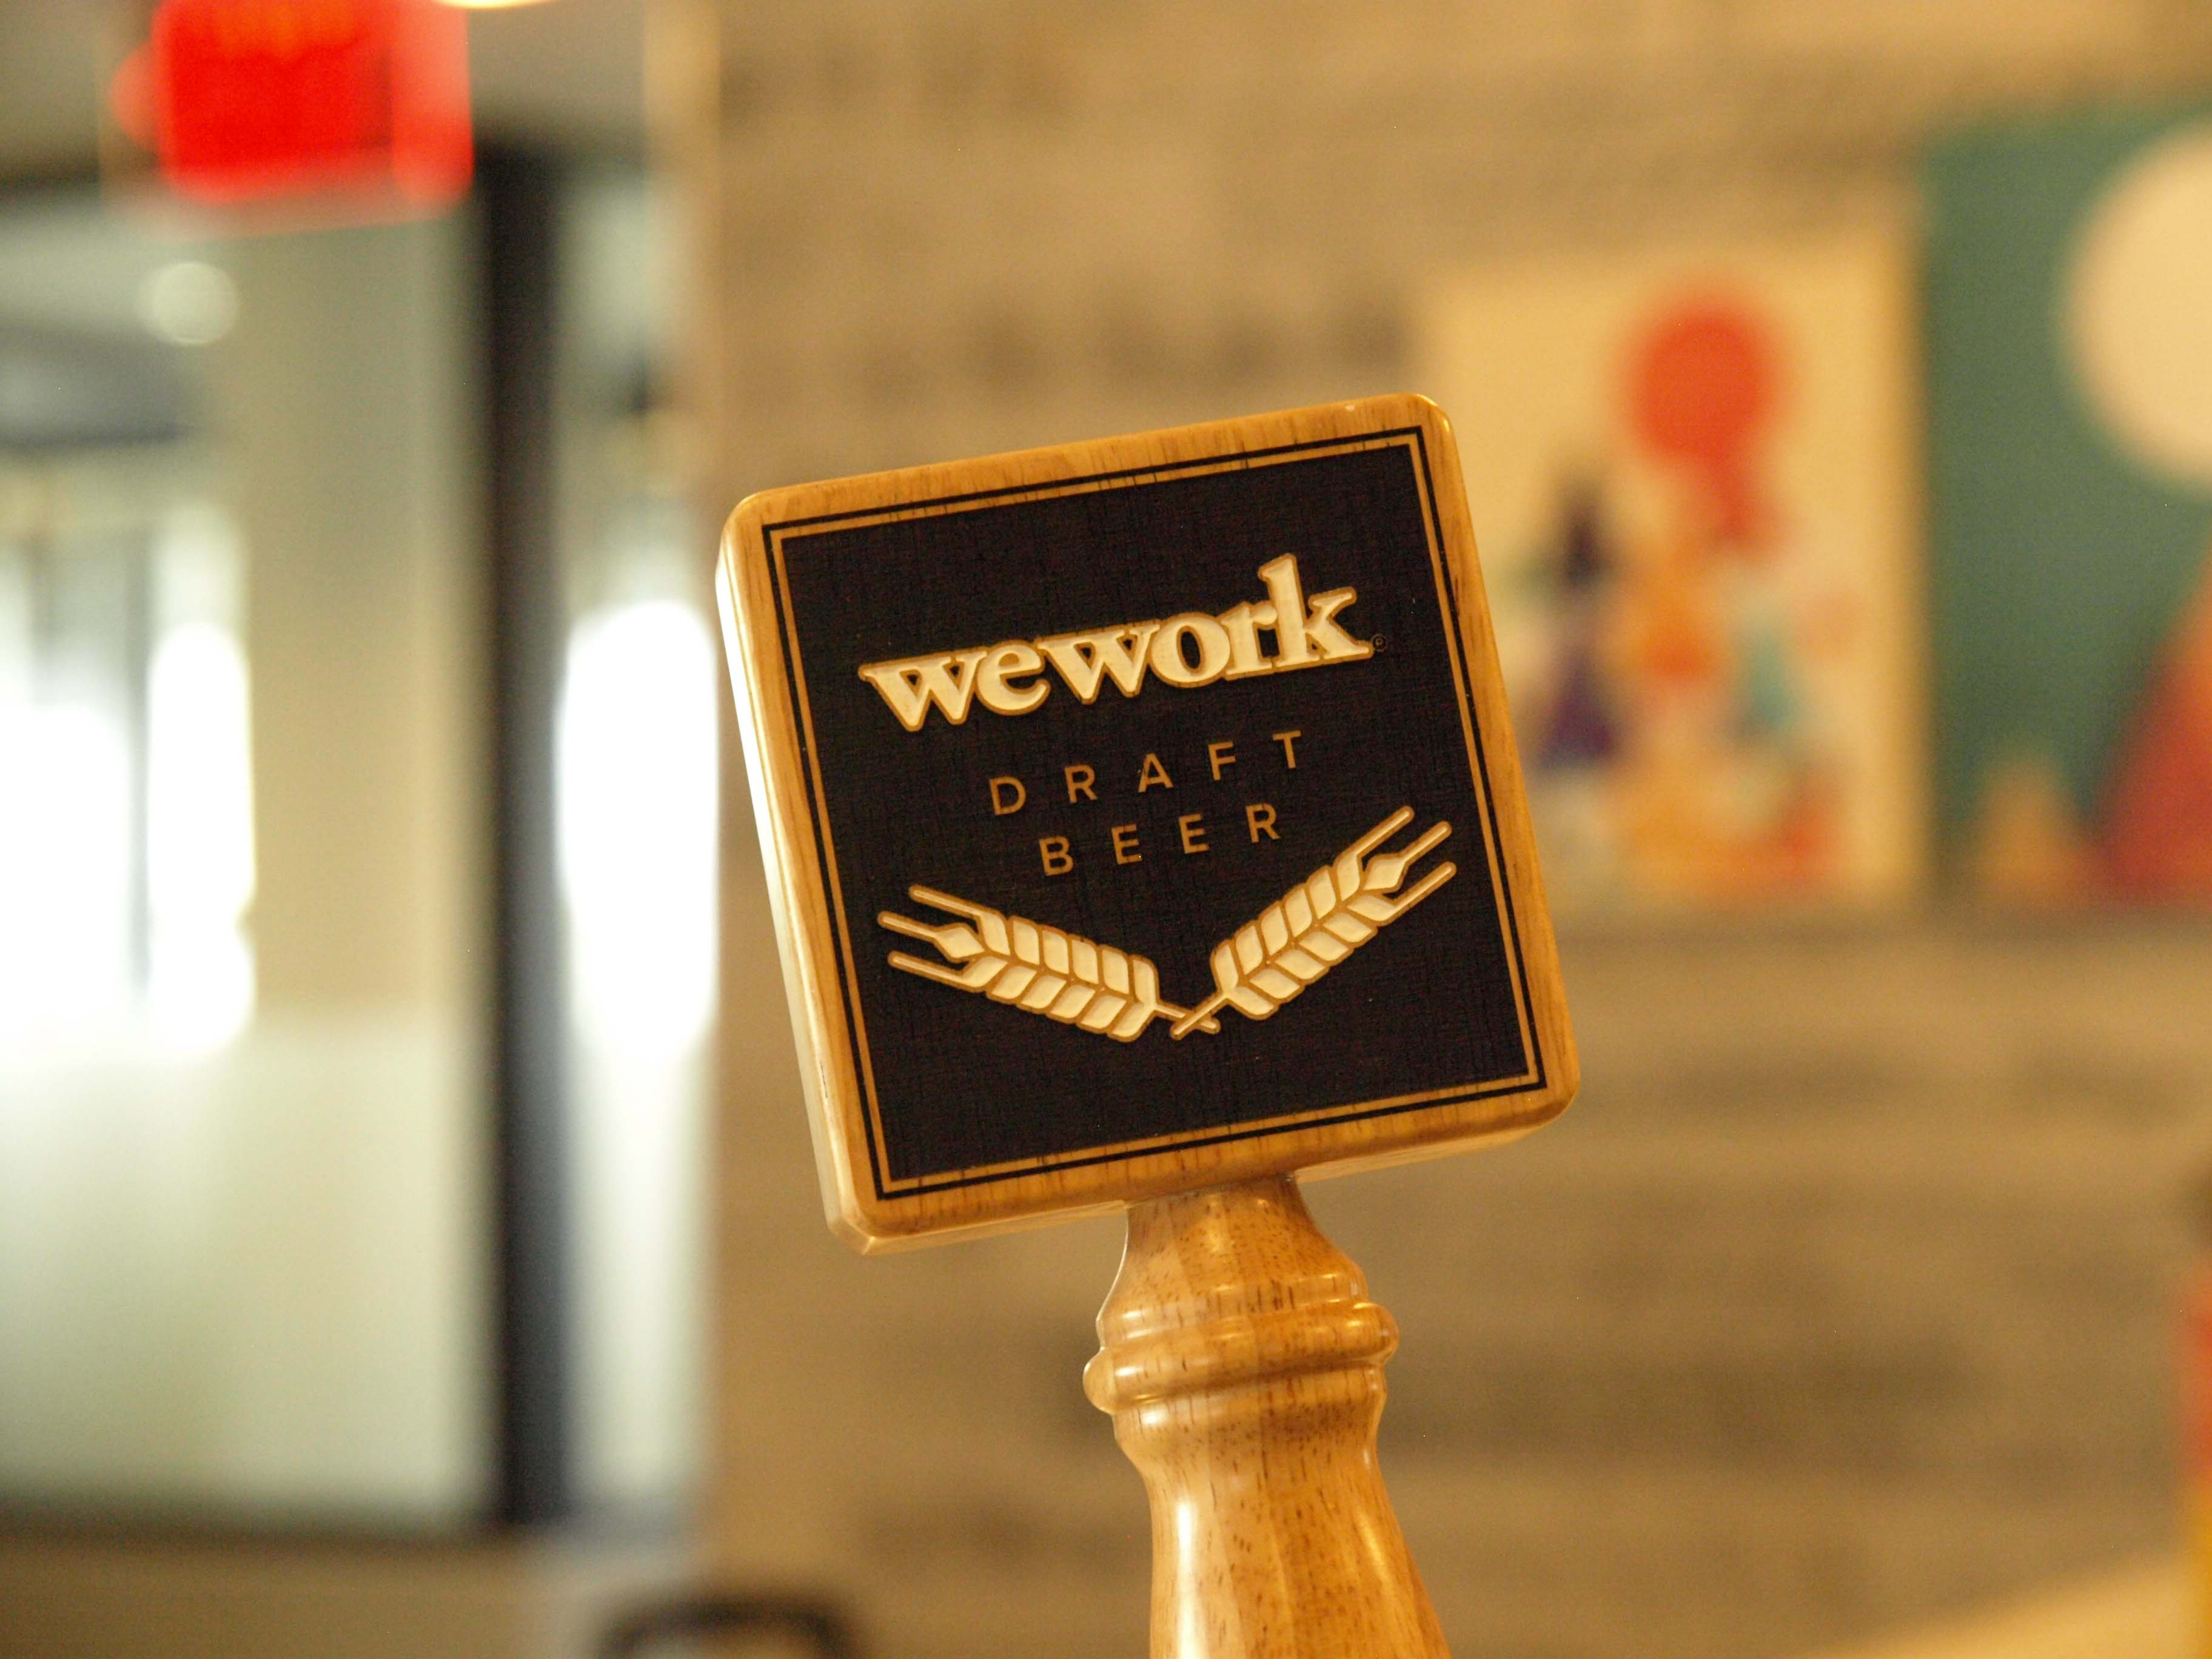wework: (843, 542, 1402, 737)
